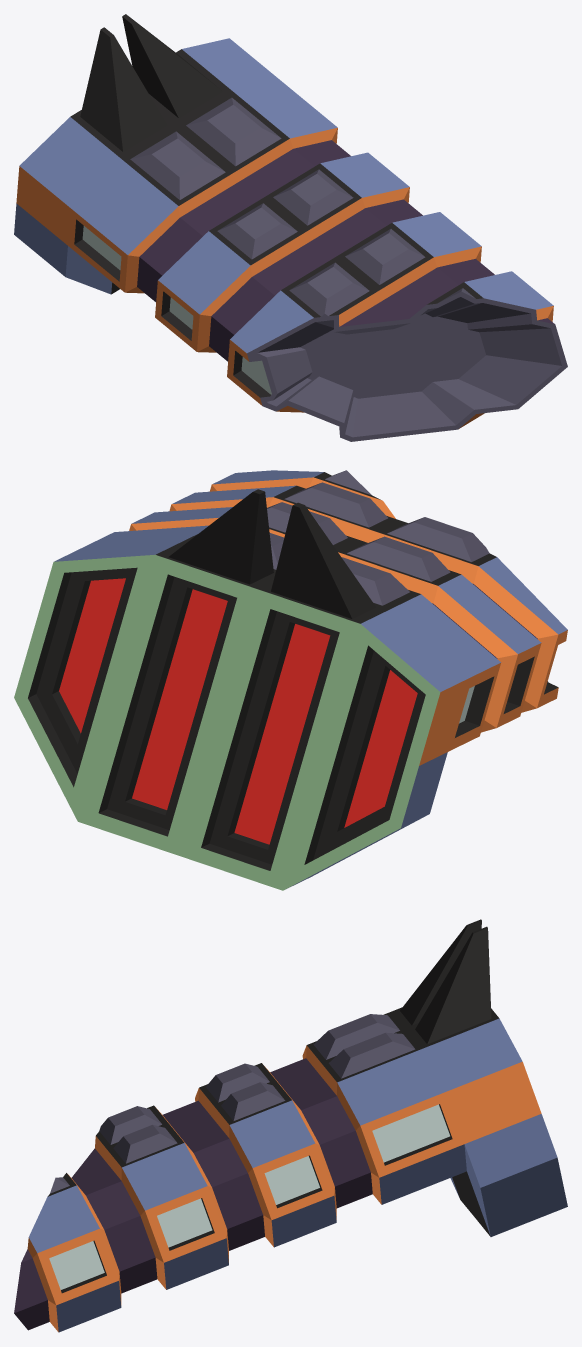
The model's file is F2.Body.01.fbx.
3 renders of one model, top to bottom at view 1: azimuth 30°, elevation 25°; view 2: azimuth 150°, elevation 25°; view 3: azimuth 270°, elevation 25°, orthographic. The views are drawn at different scales.
Parts seen in each view (by area): view 1: Freighter_02.Body.01; view 2: Freighter_02.Body.01; view 3: Freighter_02.Body.01.
Part boxes in pixels (x1,y1,x2,y2): Freighter_02.Body.01: (14, 14, 567, 441); Freighter_02.Body.01: (14, 470, 567, 890); Freighter_02.Body.01: (14, 919, 567, 1332).
Bounding box in the file's own units: 3347 × 2801 × 4322.
